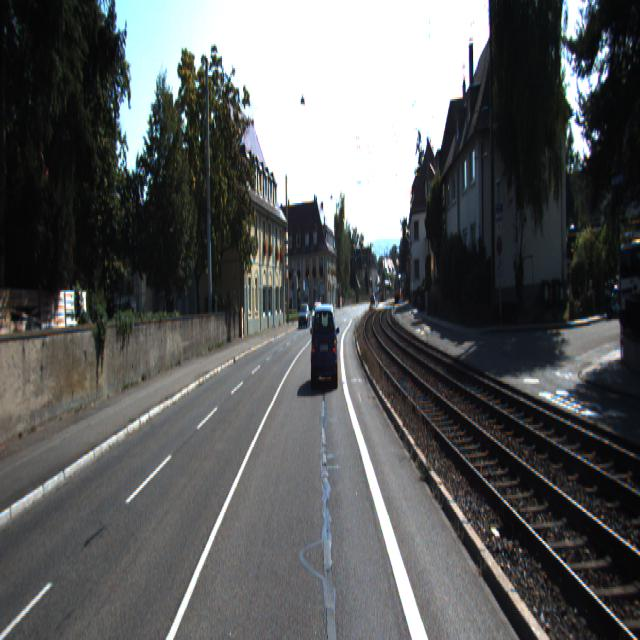Car: (310, 302, 339, 393), (312, 302, 324, 328), (299, 305, 311, 330)
